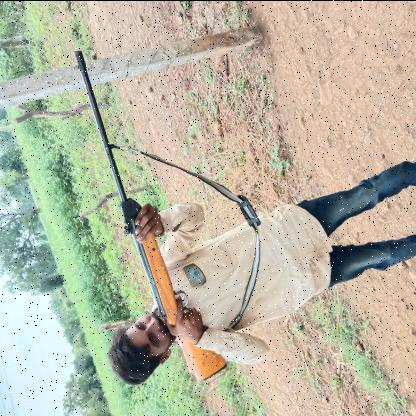rifle: (70, 47, 230, 385)
